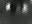person: (5, 3, 12, 13), (15, 5, 21, 16), (23, 4, 29, 15)
